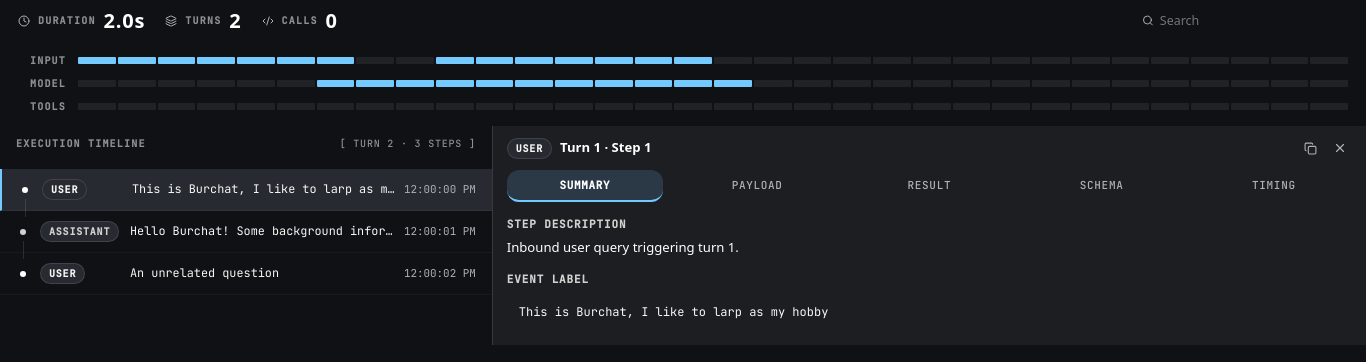
Test: Trajectory keyword search › matches separated keywords: burchat larp
The image size is (1366, 362).
Type "burchat larp" into the field with placeholder "Search" at (1247, 20), box [1160, 12, 1334, 29]
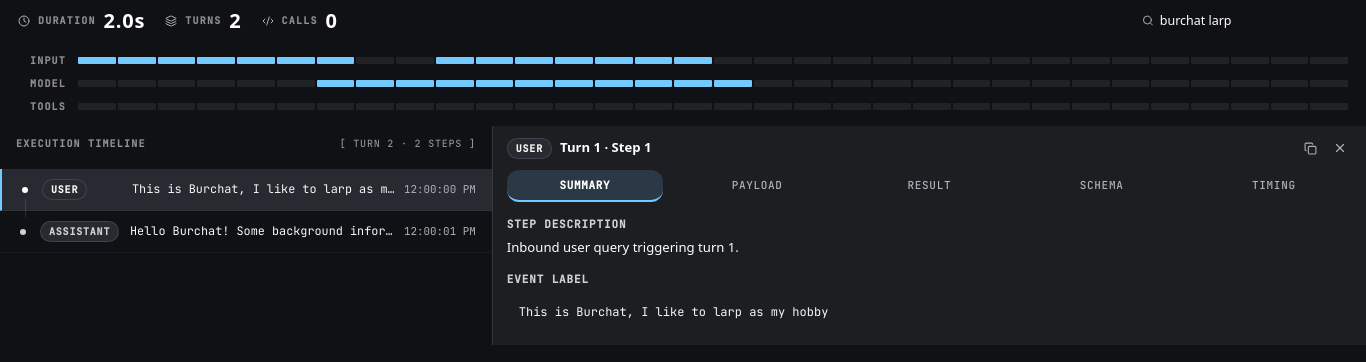
Expected: the element with class "ledger-event-row" shows "This is Burchat", [132, 181, 437, 197]
Expected: the number of elements with class "ledger-event-row" is 2, [0, 169, 492, 211]; [0, 211, 492, 253]
